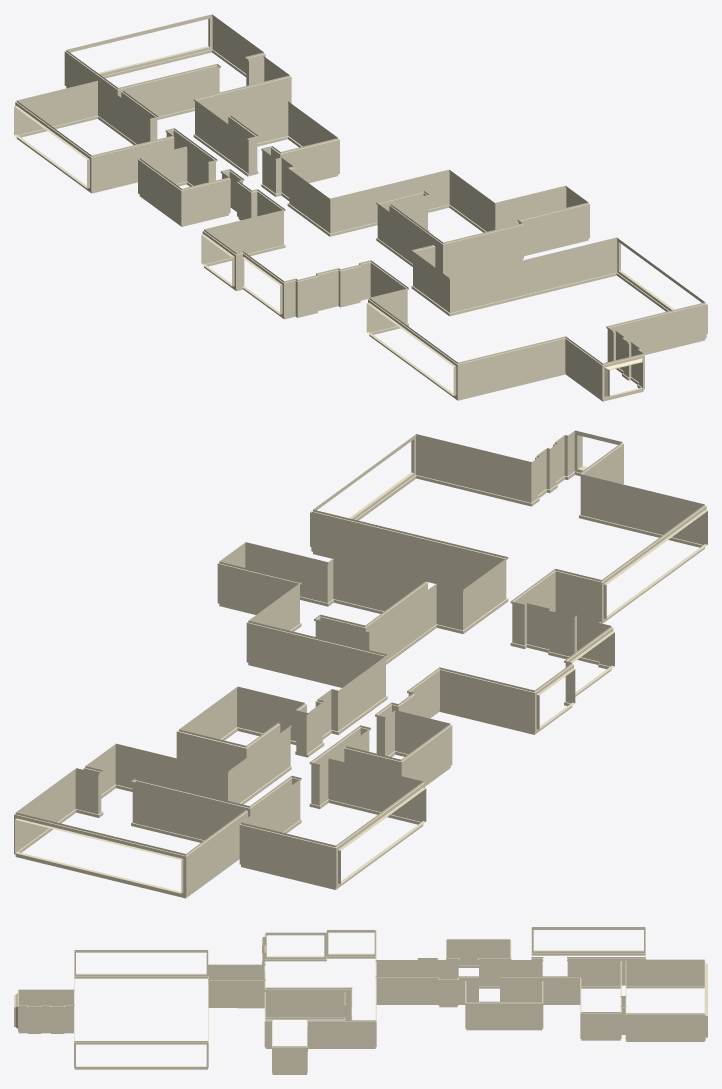
Rendered from Walls03.FBX.
3 renders of one model, top to bottom at view 1: azimuth 30°, elevation 25°; view 2: azimuth 150°, elevation 25°; view 3: azimuth 270°, elevation 25°, orthographic. The views are drawn at different scales.
Parts seen in each view (by area): view 1: Wall001; view 2: Wall001; view 3: Wall001.
Boxes of the visible parts, bbox=[...] form: Wall001: bbox=[14, 14, 707, 401]; Wall001: bbox=[14, 430, 707, 898]; Wall001: bbox=[14, 927, 707, 1074].
Size of the model in its own units: 3836 by 425 by 9304.
